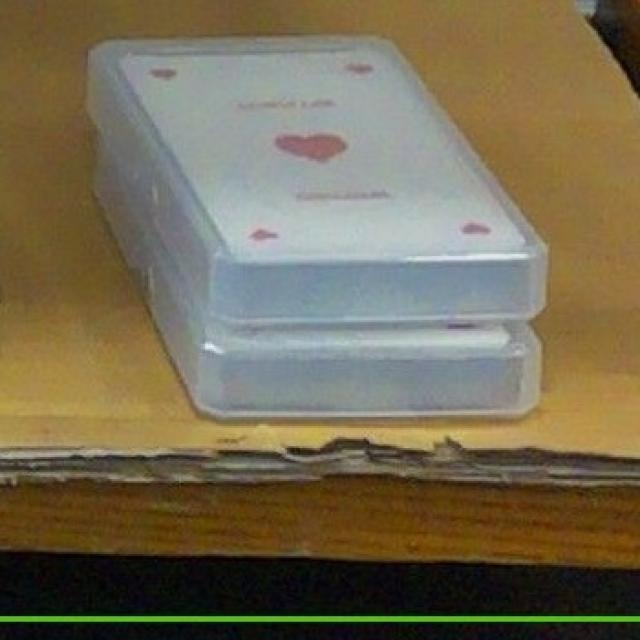Jasskarte: (88, 40, 543, 325), (96, 149, 541, 422)
